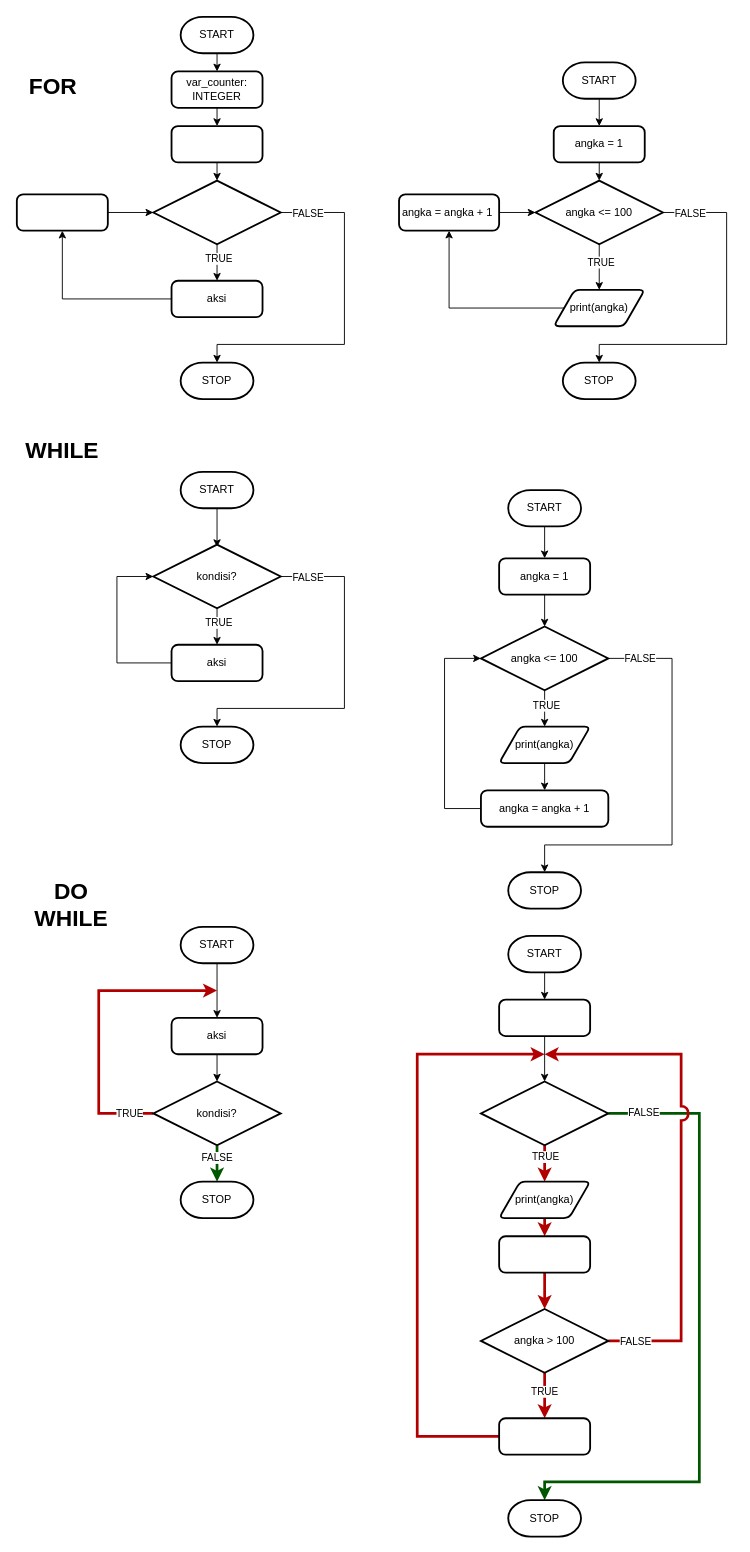
The diagram is 750 pixels wide and 1552 high, and some of its shapes have lost their labels. The shapes that lost their labels are listed below. From the top down, each one's centre as x and y in pixels, then its label:
the point at 216,144: var_counter = nilai_awal
the point at 61,212: var_counter = var_counter + 1
the point at 216,212: var_counter <= nilai_akhir
the point at 544,1017: running = True angka = 1
the point at 544,1113: running?
the point at 544,1254: angka += 1
the point at 544,1436: running = False
